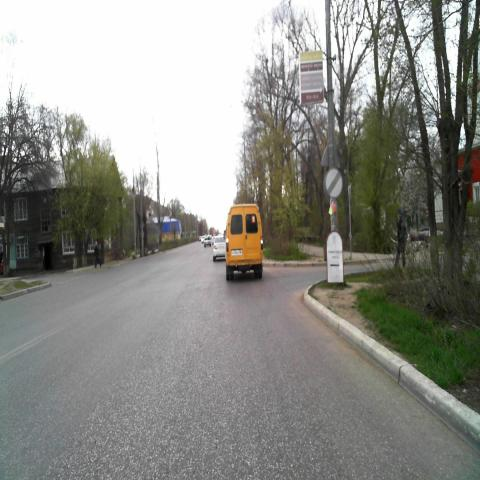3_31: (326, 167, 342, 196)
